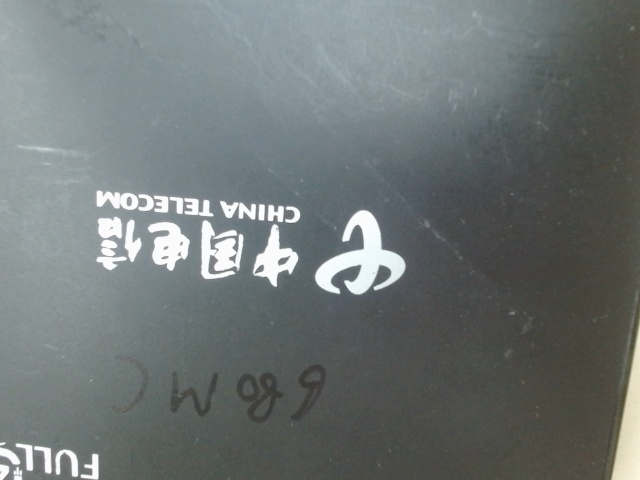AB_ChinaTelecom: (77, 177, 417, 302)
